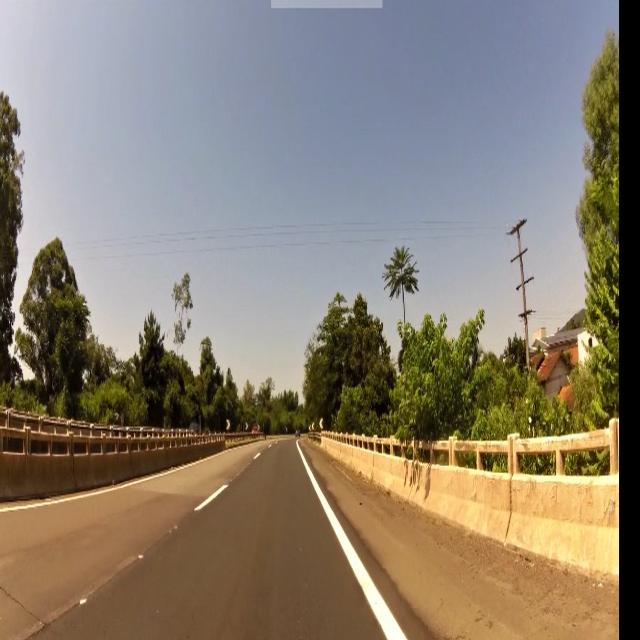Del: (319, 418, 324, 429), (226, 419, 230, 431)
